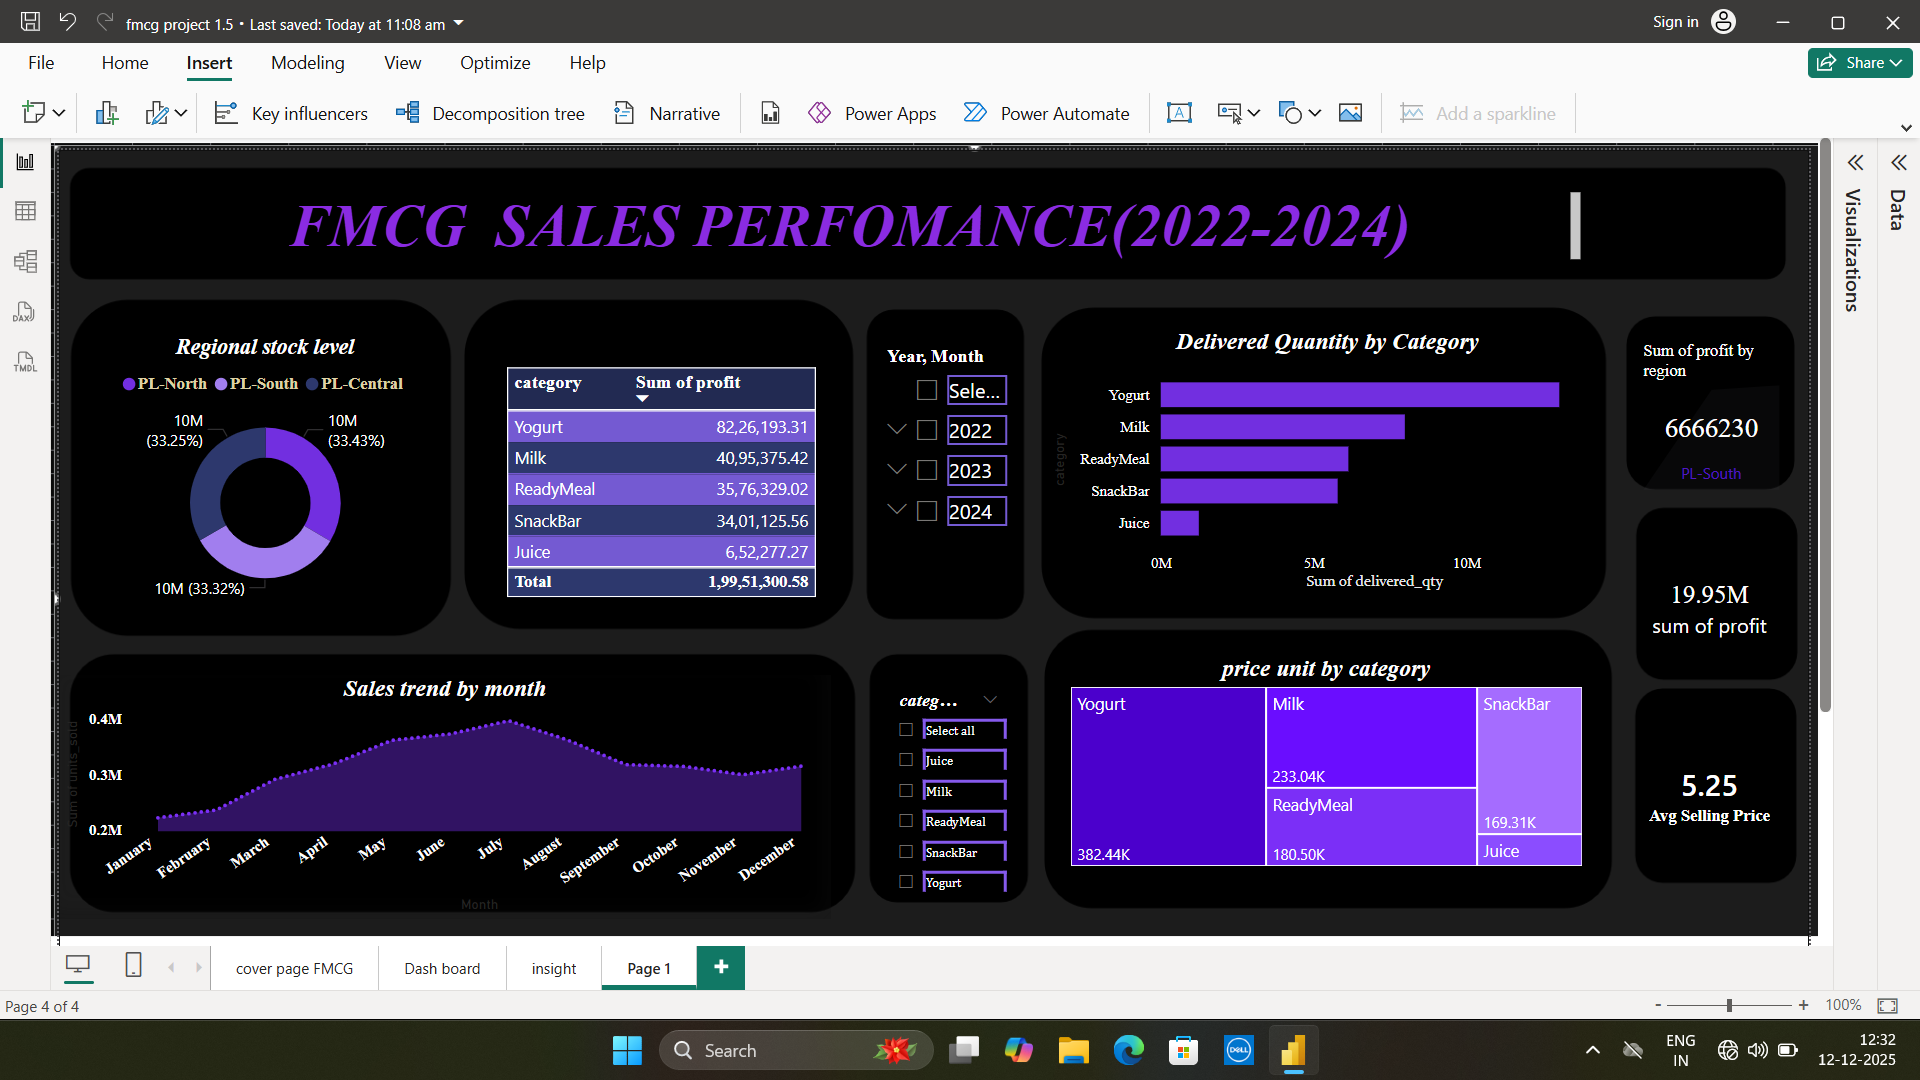

The dashboard page shown, as its layout file describes it:
{"tool":"powerbi","page":{"name":"Dashbord","canvas":[1600,900],"ordinal":1},"visuals":[{"type":"lineChart","title":"Sales trend by month","fields":{"Category":["FMCG_2022_2024 1.date.Variation.Date Hierarchy.Month","FMCG_2022_2024 1.date.Variation.Date Hierarchy.Day"],"Y":["Sum(FMCG_2022_2024 1.units_sold)"]},"box":[0,416,624,192],"z":0},{"type":"donutChart","title":" Regional stock level","fields":{"Category":["FMCG_2022_2024 1.region"],"Y":["Sum(FMCG_2022_2024 1.stock_available)"]},"box":[16,136,288,256],"z":1000},{"type":"clusteredBarChart","title":"Delivered Quantity by Category","fields":{"Category":["FMCG_2022_2024 1.category"],"Y":["Sum(FMCG_2022_2024 1.delivered_qty)"]},"box":[784,136,448,232],"z":2000},{"type":"treemap","title":"unit sold by category","fields":{"Group":["FMCG_2022_2024 1.category"],"Values":["Sum(FMCG_2022_2024 1.units_sold)"]},"box":[808,400,400,184],"z":3000},{"type":"slicer","fields":{"Values":["FMCG_2022_2024 1.date.Variation.Date Hierarchy.Year","FMCG_2022_2024 1.date.Variation.Date Hierarchy.Month"]},"box":[648,136,112,120],"z":4000},{"type":"tableEx","fields":{"Values":["FMCG_2022_2024 1.category","Sum(FMCG_2022_2024 1.profit)"]},"box":[344,144,264,216],"z":5000},{"type":"slicer","fields":{"Values":["FMCG_2022_2024 1.category"]},"box":[656,416,104,176],"z":6000},{"type":"kpi","fields":{"Indicator":["Sum(FMCG_2022_2024 1.profit)"],"TrendLine":["FMCG_2022_2024 1.region"]},"box":[1264,144,120,120],"z":7000},{"type":"cardVisual","title":"Sum of unit sold","fields":{"Data":["FMCG_2022_2024 1.Sum of units_sold average per category"]},"box":[1232,312,176,120],"z":8000},{"type":"cardVisual","fields":{"Data":["FMCG_2022_2024 1.Avg Selling Price"]},"box":[1248,440,160,136],"z":9000},{"type":"textbox","box":[216,24,1040,64],"z":10000},{"type":"slicer","title":"Region","fields":{"Values":["FMCG_2022_2024 1.region"]},"box":[648,264,112,104],"z":11000}]}

Visuals, with their boxes on the page's 1600x900 design canvas (x1, y1, x2, y2). These are canvas units, not pixel positions in the 1920x1080 screenshot, which may show the page scaled, cropped or inside an application window:
"Sales trend by month" lineChart: x1=0, y1=416, x2=624, y2=608
" Regional stock level" donutChart: x1=16, y1=136, x2=304, y2=392
"Delivered Quantity by Category" clusteredBarChart: x1=784, y1=136, x2=1232, y2=368
"unit sold by category" treemap: x1=808, y1=400, x2=1208, y2=584
slicer - FMCG_2022_2024 1.date.Variation.Date Hierarchy.Year x FMCG_2022_2024 1.date.Variation.Date Hierarchy.Month: x1=648, y1=136, x2=760, y2=256
tableEx - FMCG_2022_2024 1.category x Sum(FMCG_2022_2024 1.profit): x1=344, y1=144, x2=608, y2=360
slicer - FMCG_2022_2024 1.category: x1=656, y1=416, x2=760, y2=592
kpi - Sum(FMCG_2022_2024 1.profit) x FMCG_2022_2024 1.region: x1=1264, y1=144, x2=1384, y2=264
"Sum of unit sold" cardVisual: x1=1232, y1=312, x2=1408, y2=432
cardVisual - FMCG_2022_2024 1.Avg Selling Price: x1=1248, y1=440, x2=1408, y2=576
textbox: x1=216, y1=24, x2=1256, y2=88
"Region" slicer: x1=648, y1=264, x2=760, y2=368
